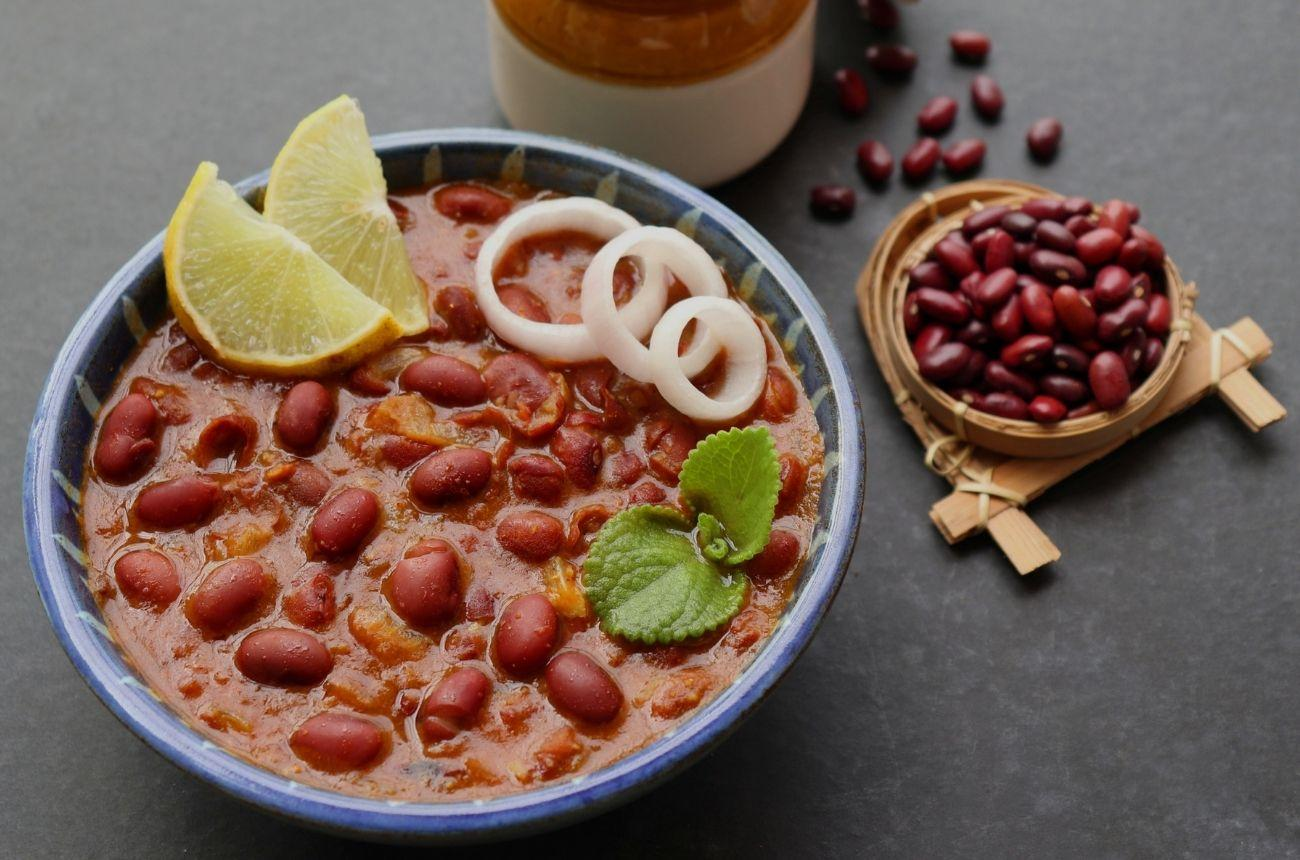rajma: (108, 355, 898, 742)
